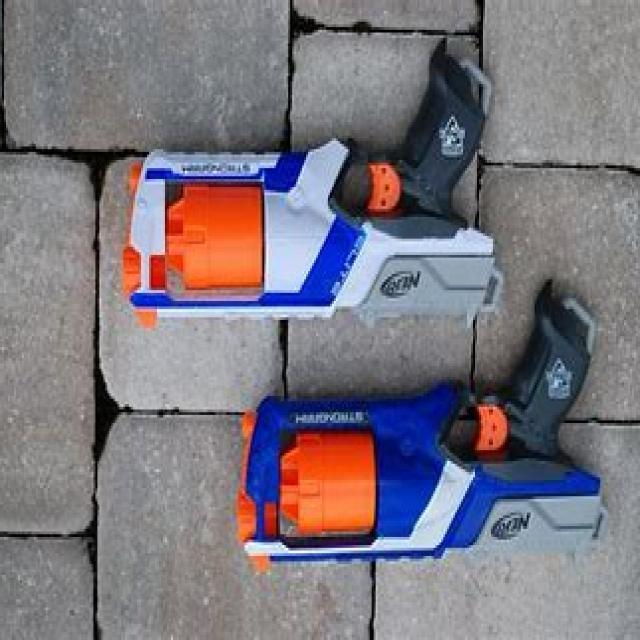nerf-maverik: (233, 272, 620, 588), (124, 38, 508, 329)
